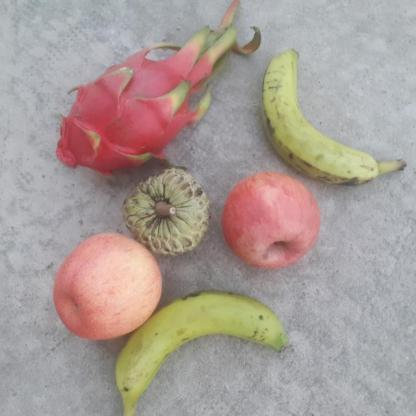annona: (118, 166, 212, 258)
apple: (48, 230, 163, 343), (219, 170, 326, 271)
banana: (112, 289, 288, 416), (258, 46, 395, 187)
pitaya: (53, 59, 201, 178)
